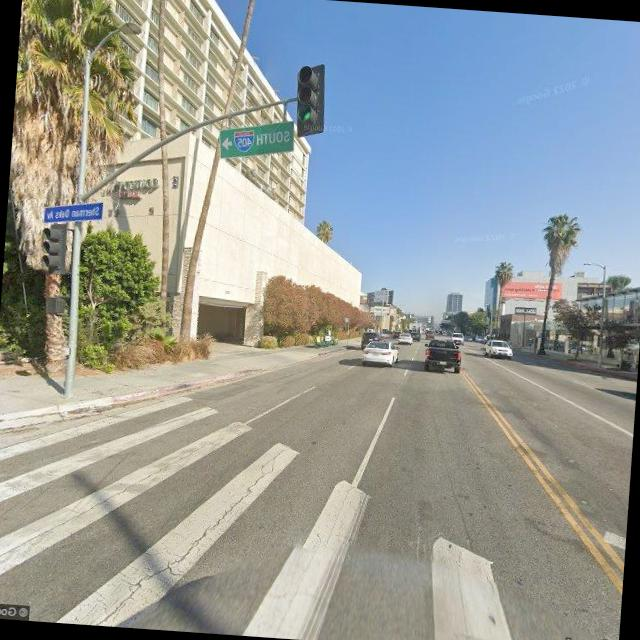pothole: (86, 426, 292, 631)
